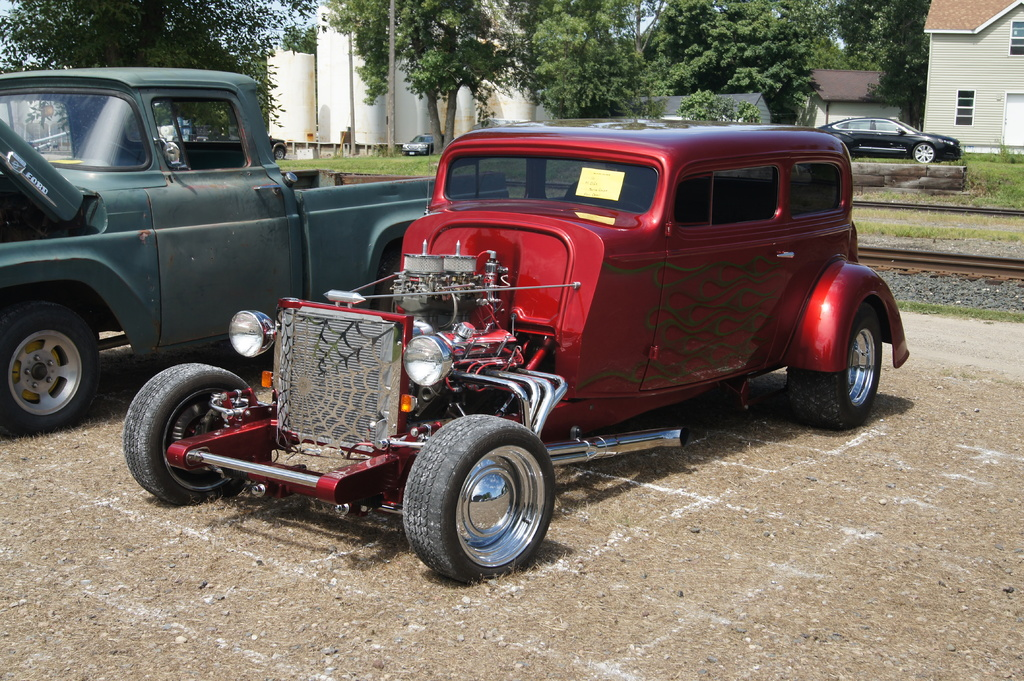Car: (151, 104, 862, 577), (0, 65, 507, 433), (816, 117, 960, 164), (401, 134, 453, 156), (265, 135, 284, 157)
